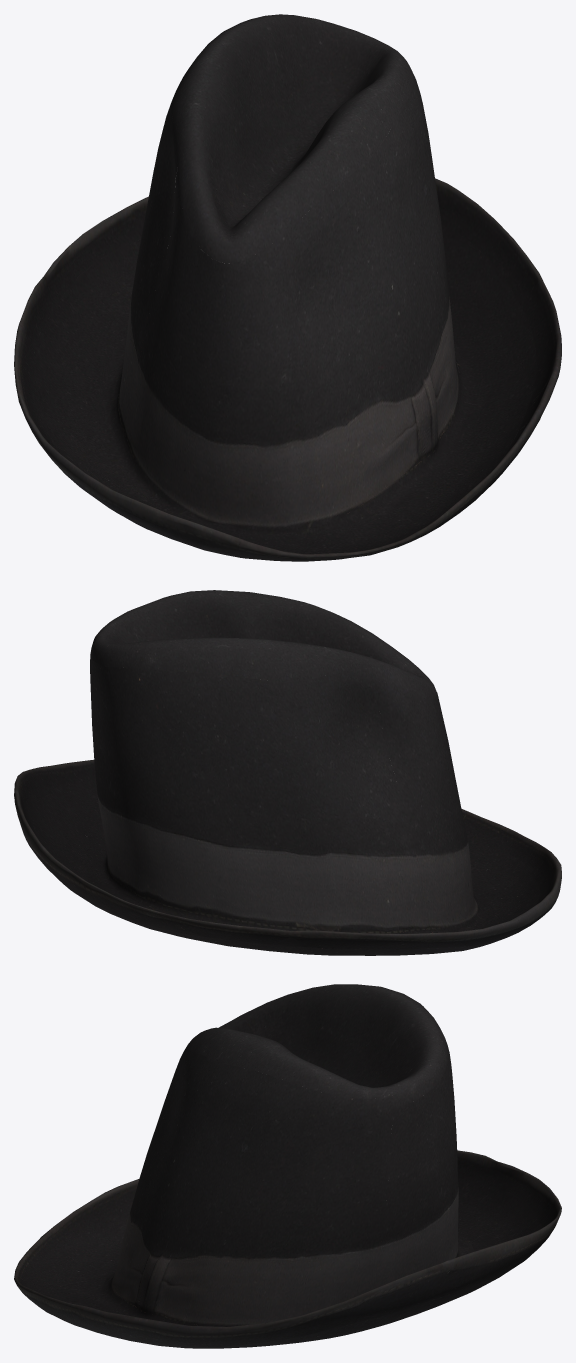
Rendered from Hat1.fbx.
3 views of the same model, one above another, from view 1: azimuth 30°, elevation 25°; view 2: azimuth 150°, elevation 25°; view 3: azimuth 270°, elevation 25° (orthographic). The views are drawn at different scales.
Parts seen in each view (by area): view 1: Kapelusz_Karola_Wojtyly_defaultMat_0; view 2: Kapelusz_Karola_Wojtyly_defaultMat_0; view 3: Kapelusz_Karola_Wojtyly_defaultMat_0.
Boxes of the visible parts, bbox=[...] form: Kapelusz_Karola_Wojtyly_defaultMat_0: bbox=[14, 14, 561, 561]; Kapelusz_Karola_Wojtyly_defaultMat_0: bbox=[14, 590, 561, 955]; Kapelusz_Karola_Wojtyly_defaultMat_0: bbox=[14, 984, 561, 1348].
Size of the model in its own units: 21.47 by 15.12 by 23.03.
1 material, 1 textured.
